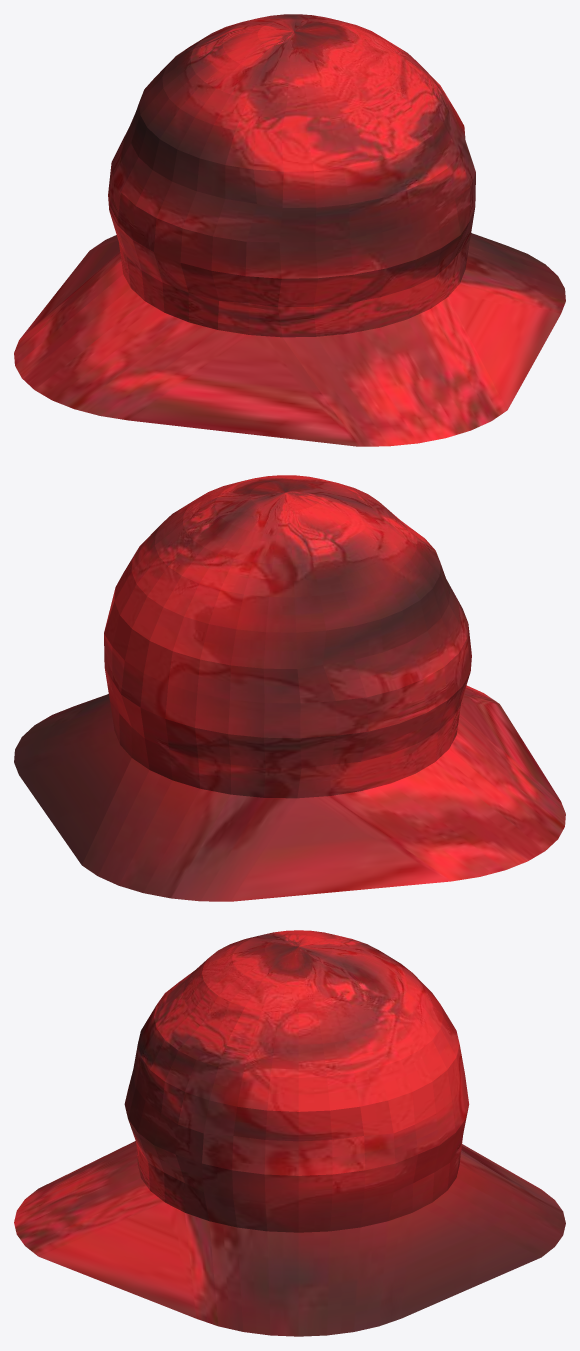
Rendered from Evil_Blob.glb.
The picture shows the model from 3 angles, top to bottom: view 1: azimuth 30°, elevation 25°; view 2: azimuth 150°, elevation 25°; view 3: azimuth 270°, elevation 25°; orthographic projection. The views are drawn at different scales.
Parts seen in each view (by area): view 1: Sphere; view 2: Sphere; view 3: Sphere.
Boxes of the visible parts, x1,y1,x2,y2 form: Sphere: (14, 14, 565, 446); Sphere: (14, 475, 565, 901); Sphere: (14, 930, 565, 1336).
Bounding box in the file's own units: 0.6339 × 0.3514 × 0.6339.
Materials: 1 (1 with a texture image).
